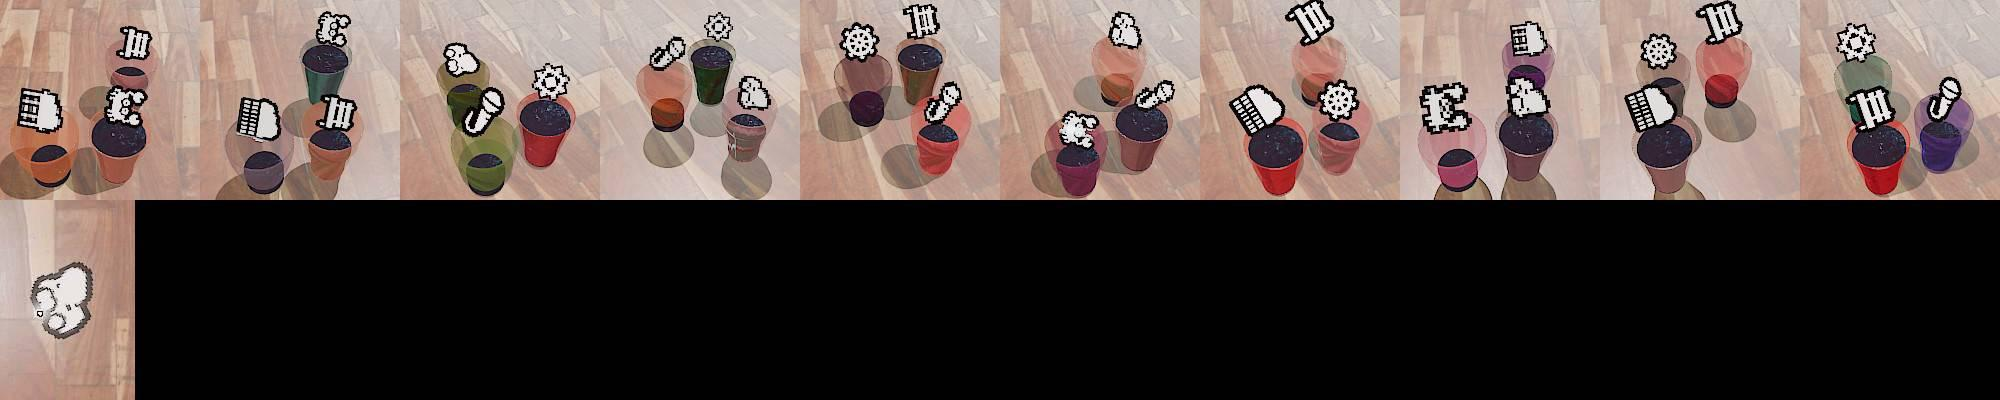icon: (28, 262, 95, 340), (1229, 84, 1285, 137), (1419, 81, 1471, 135), (1624, 84, 1679, 134), (16, 86, 65, 134), (1846, 86, 1898, 131), (1286, 0, 1334, 47), (462, 86, 507, 136), (234, 96, 282, 142), (1505, 73, 1552, 119), (1315, 76, 1361, 123), (1695, 1, 1743, 44), (102, 84, 148, 126), (923, 79, 963, 123), (839, 19, 880, 61), (1835, 21, 1877, 62), (1057, 109, 1099, 149), (1927, 76, 1962, 123), (1508, 20, 1549, 59), (1638, 32, 1678, 71), (318, 93, 357, 132), (902, 3, 941, 40), (649, 34, 687, 71), (441, 41, 480, 77), (1108, 10, 1144, 49), (532, 62, 571, 97), (315, 10, 351, 47), (117, 25, 153, 61), (736, 74, 771, 111), (1135, 78, 1175, 110), (704, 12, 734, 41)
